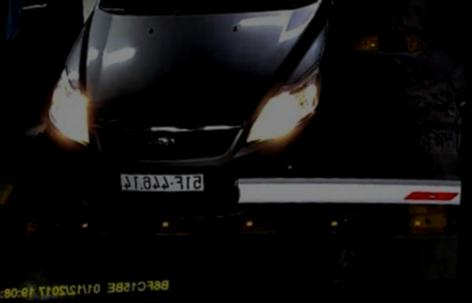License_Plate: (112, 164, 208, 202)
